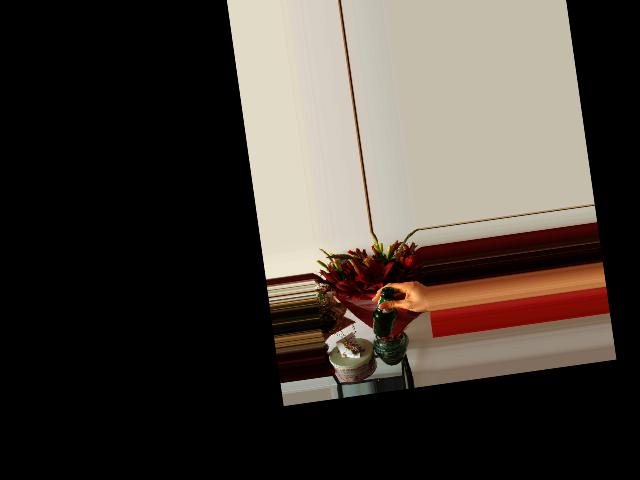beer: (367, 286, 400, 338)
